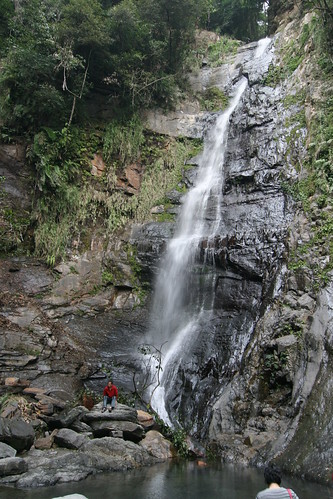wufengciWaterfall: (92, 31, 276, 417)
